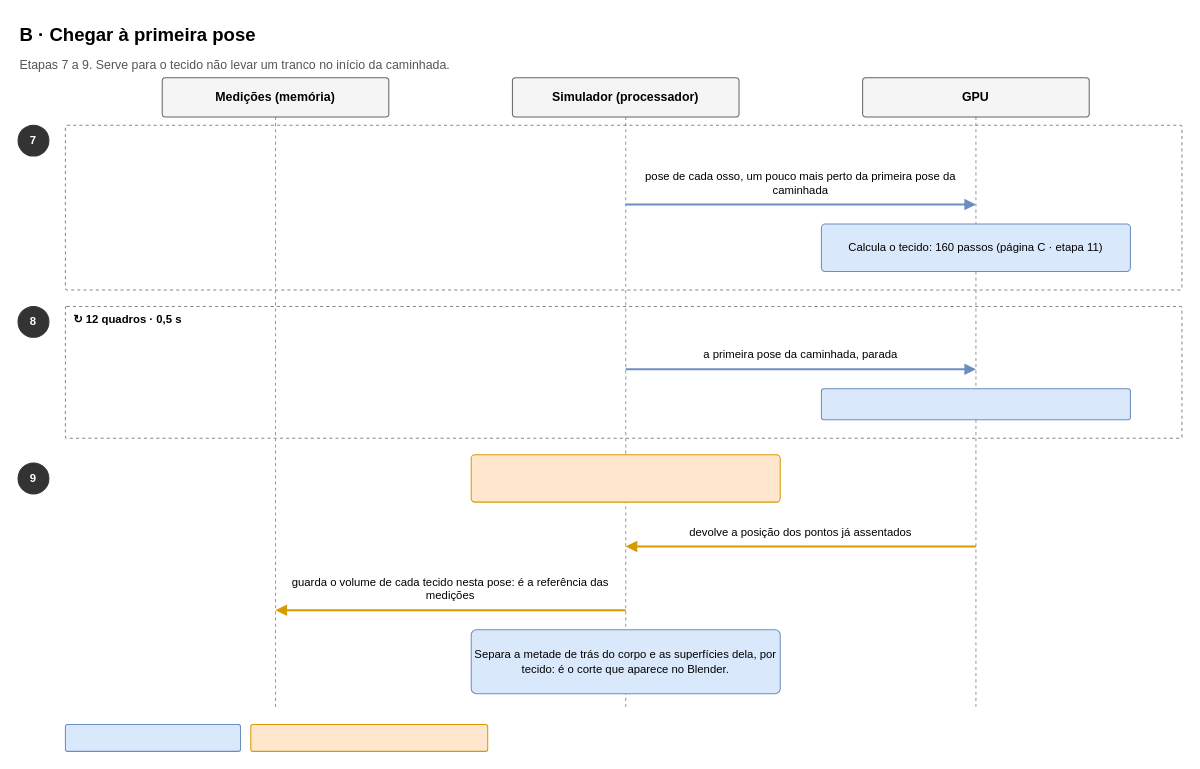
Image size: 1200x769. Some labels were removed from this diagram. The box of each missing label's shape, as (x1, y1, x2, y2) in pixels:
Calcula o tecido: 160 passos: (820, 388, 1130, 420)
Escolhe, em cada osso, os pontos a testar, sem os que estão perto dos cortes.: (470, 454, 780, 502)
Produz o resultado: (64, 724, 241, 751)
Só mede: não muda o movimento: (250, 724, 488, 751)
↻ 24 quadros · 1 s: (64, 124, 1182, 290)
